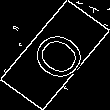O_SE: (19, 23, 91, 87)
